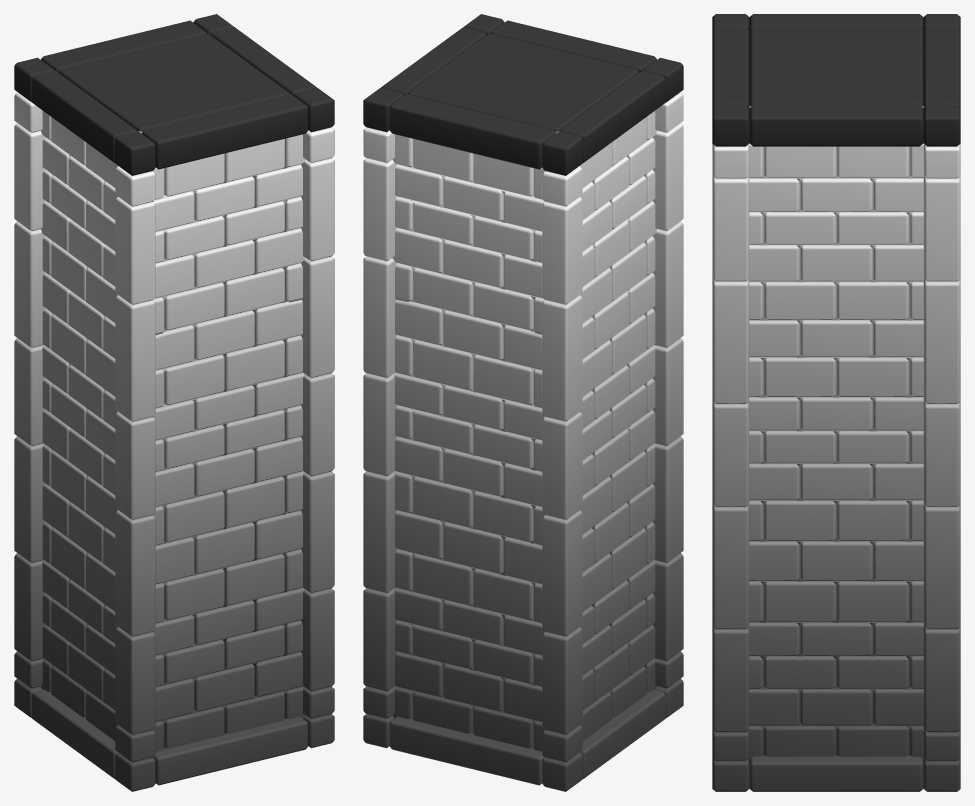
The model's file is SM_Stone_Body_04.fbx.
3 renders of one model, left to right at view 1: azimuth 30°, elevation 25°; view 2: azimuth 150°, elevation 25°; view 3: azimuth 270°, elevation 25°, orthographic. The views are drawn at different scales.
Parts seen in each view (by area): view 1: SM_Stone_Body_04; view 2: SM_Stone_Body_04; view 3: SM_Stone_Body_04.
Part boxes in pixels (left/top/right/bottom): SM_Stone_Body_04: left=14, top=14, right=334, bottom=791; SM_Stone_Body_04: left=363, top=14, right=683, bottom=791; SM_Stone_Body_04: left=712, top=14, right=960, bottom=791.
Bounding box in the file's own units: 0.9995 × 3 × 0.9995.
